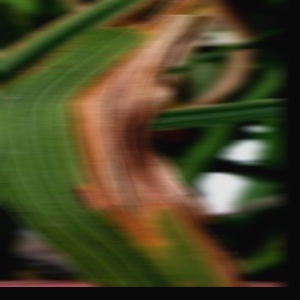Leaf_Blast: (2, 33, 180, 256)
